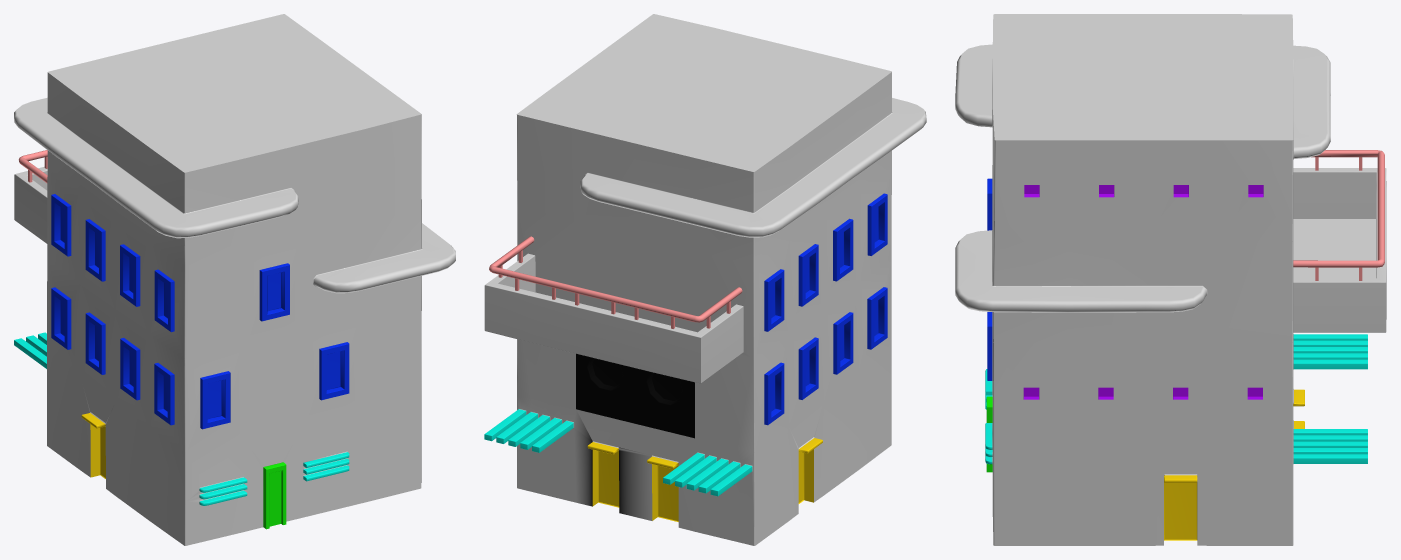
The model's file is House_05.FBX.
3 renders of one model, left to right at view 1: azimuth 30°, elevation 25°; view 2: azimuth 150°, elevation 25°; view 3: azimuth 270°, elevation 25°, orthographic. The views are drawn at different scales.
Visible parts, largest first — view 1: O_Batiment_01; view 2: O_Batiment_01; view 3: O_Batiment_01.
Part boxes in pixels (<box>): O_Batiment_01: <box>14,14,455,545</box>; O_Batiment_01: <box>484,14,926,545</box>; O_Batiment_01: <box>955,14,1386,545</box>.
Bounding box in the file's own units: 10.03 × 11.56 × 12.
